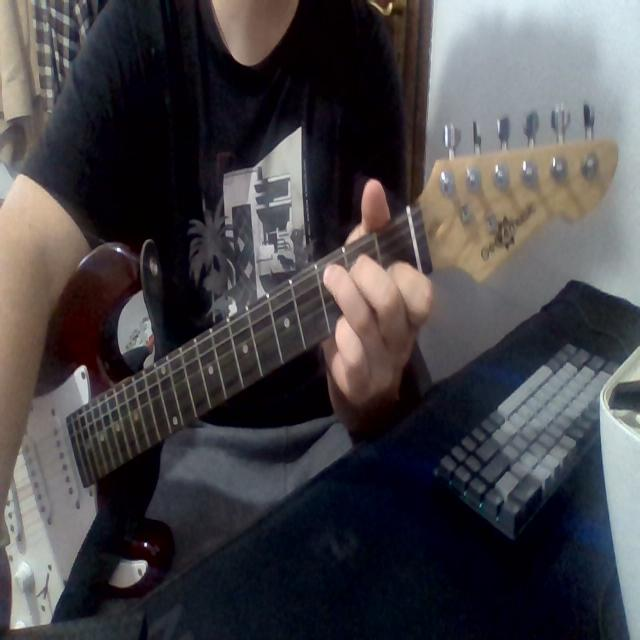C: (312, 243, 450, 379)
